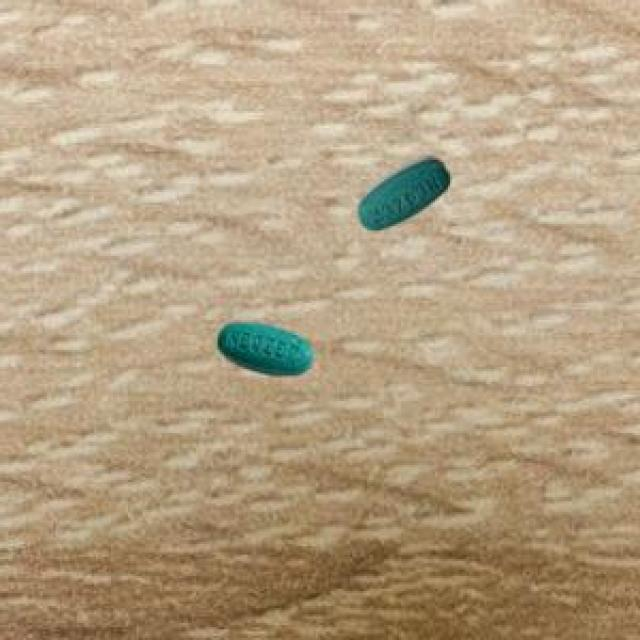Neozep: (350, 148, 460, 240), (213, 314, 320, 384)
